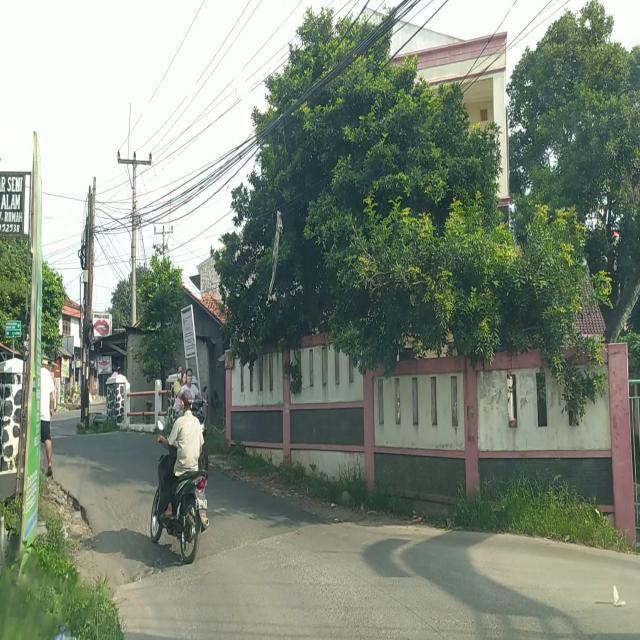Drain Hole: (122, 511, 172, 586)
